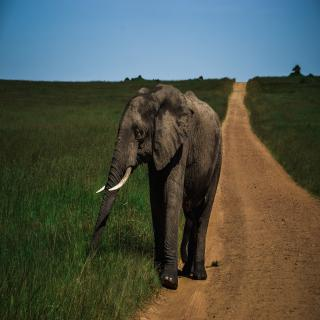Elephant: (84, 81, 225, 291)
